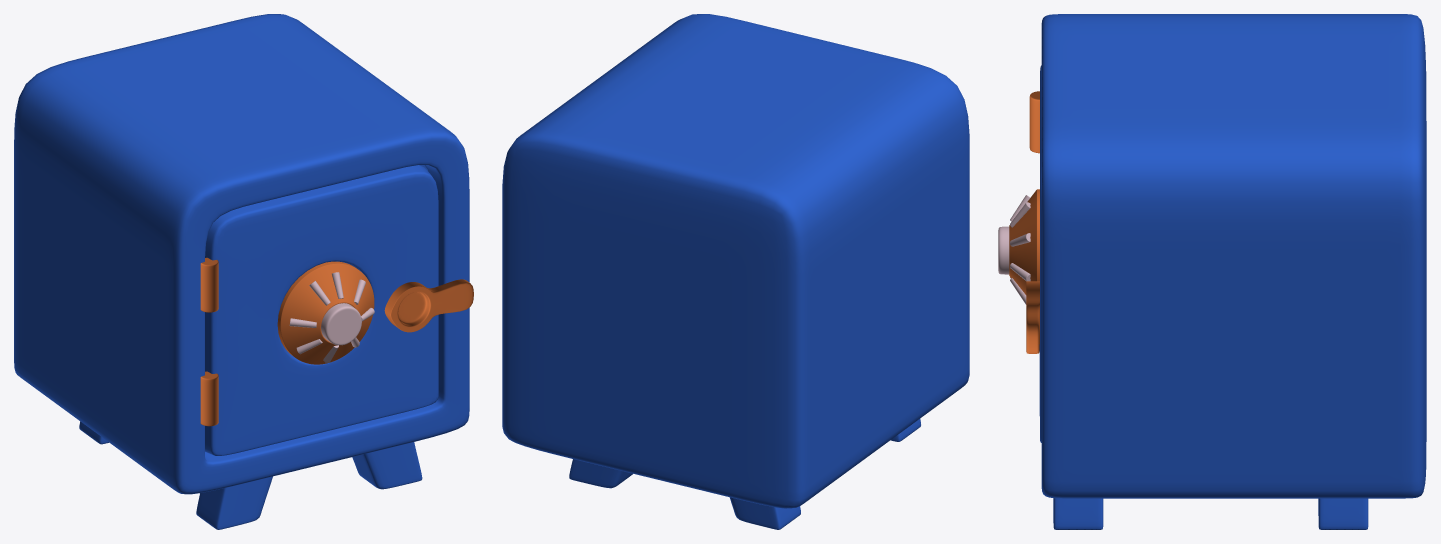
The model's file is safe1.fbx.
The picture shows the model from 3 angles, left to right: view 1: azimuth 30°, elevation 25°; view 2: azimuth 150°, elevation 25°; view 3: azimuth 270°, elevation 25°; orthographic projection. The views are drawn at different scales.
Parts seen in each view (by area): view 1: Cube, Circle; view 2: Cube; view 3: Cube, Circle.
Part boxes in pixels (x1=…): Cube: x1=14, y1=14, x2=469, y2=529; Circle: x1=200, y1=257, x2=473, y2=426; Cube: x1=502, y1=14, x2=969, y2=529; Cube: x1=1039, y1=14, x2=1426, y2=529; Circle: x1=998, y1=91, x2=1039, y2=353.
Bounding box in the file's own units: 20 × 22.81 × 22.24.
